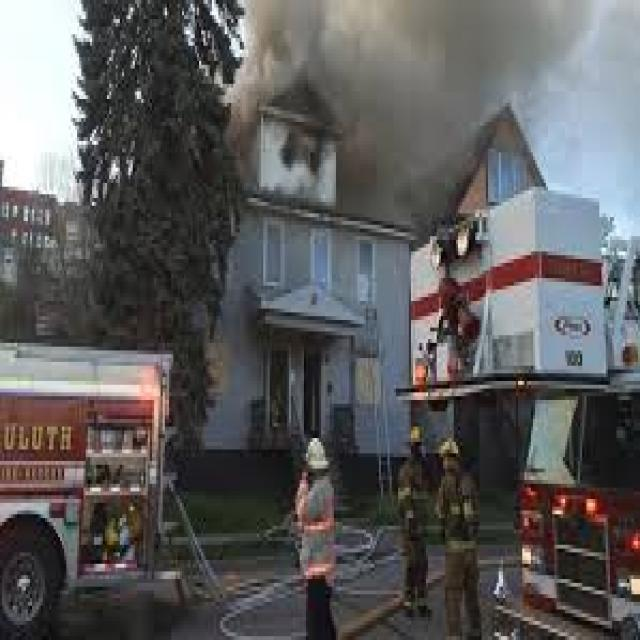Smoke: (210, 0, 591, 244)
